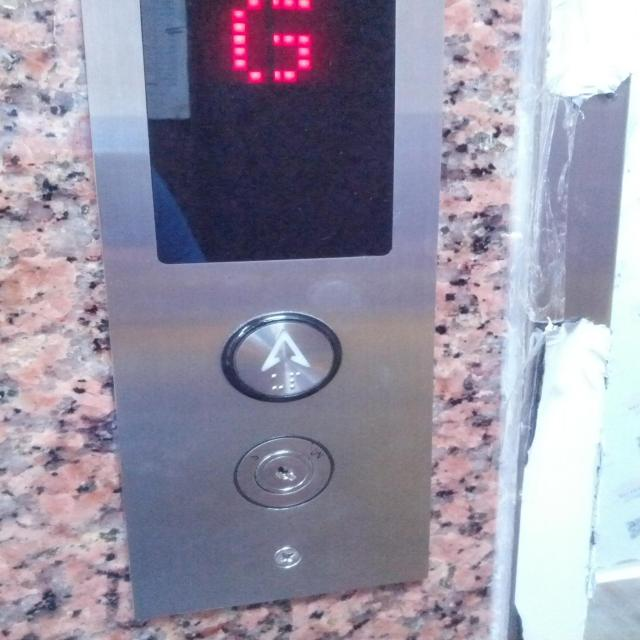keyhole: (232, 434, 334, 509)
led: (138, 0, 398, 263)
up: (219, 311, 343, 403)
